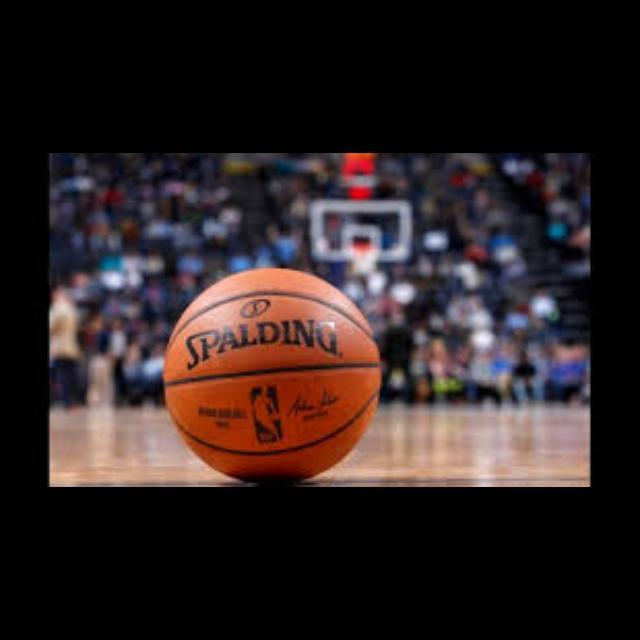basketball: (165, 269, 379, 477)
